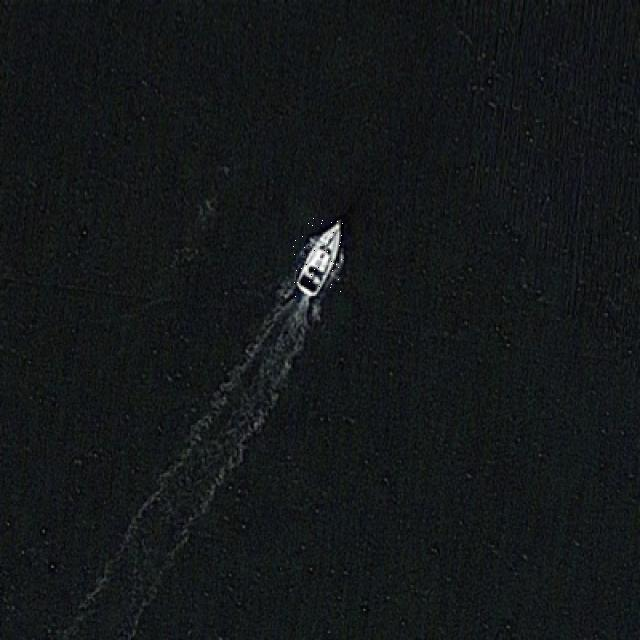boat: (292, 218, 346, 298)
